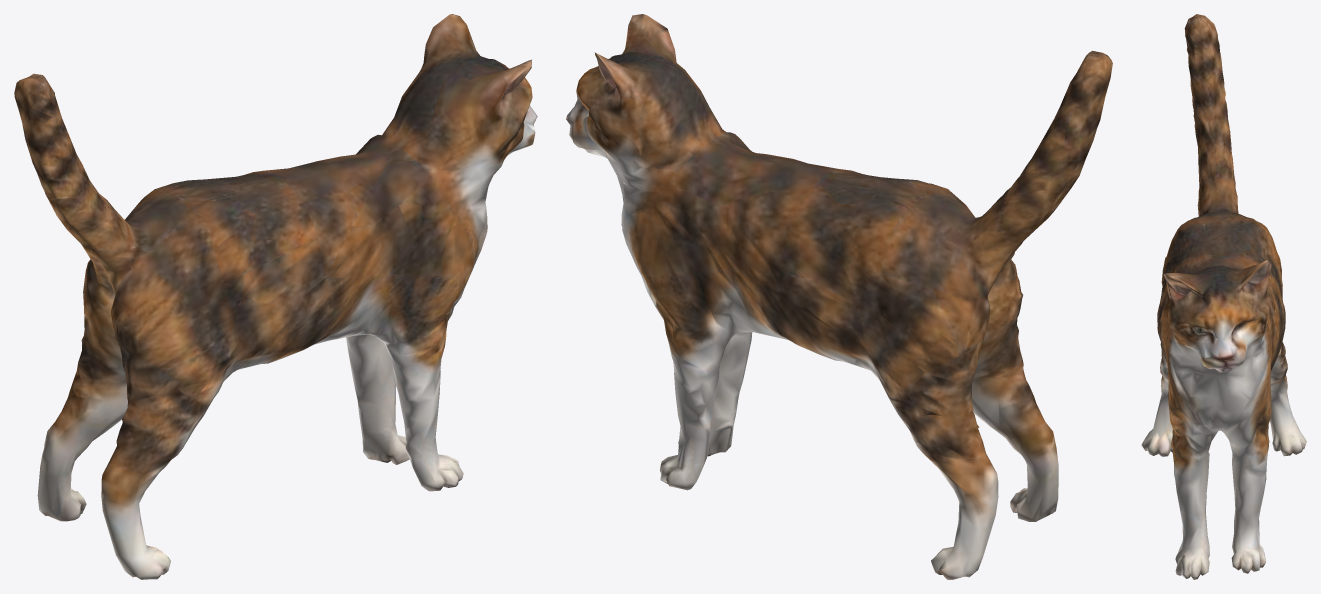
File: MIIKOCAT-lo.glb
The picture shows the model from 3 angles, left to right: view 1: azimuth 30°, elevation 25°; view 2: azimuth 150°, elevation 25°; view 3: azimuth 270°, elevation 25°; orthographic projection. The views are drawn at different scales.
Visible parts, largest first — view 1: tripo_node_188a1a5c-4347-4854-b1ad-46175a216343; view 2: tripo_node_188a1a5c-4347-4854-b1ad-46175a216343; view 3: tripo_node_188a1a5c-4347-4854-b1ad-46175a216343.
Part boxes in pixels (<box>): tripo_node_188a1a5c-4347-4854-b1ad-46175a216343: <box>14,14,537,579</box>; tripo_node_188a1a5c-4347-4854-b1ad-46175a216343: <box>566,14,1112,579</box>; tripo_node_188a1a5c-4347-4854-b1ad-46175a216343: <box>1141,14,1306,579</box>.
Size of the model in its own units: 1.1 by 0.9988 by 0.3735.
Materials: 1 (1 with a texture image).
